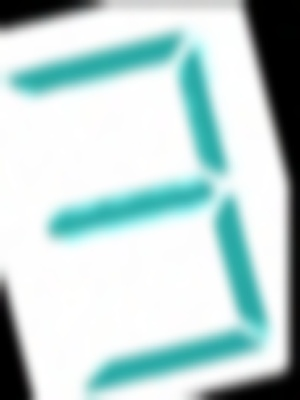three: (10, 20, 285, 390)
